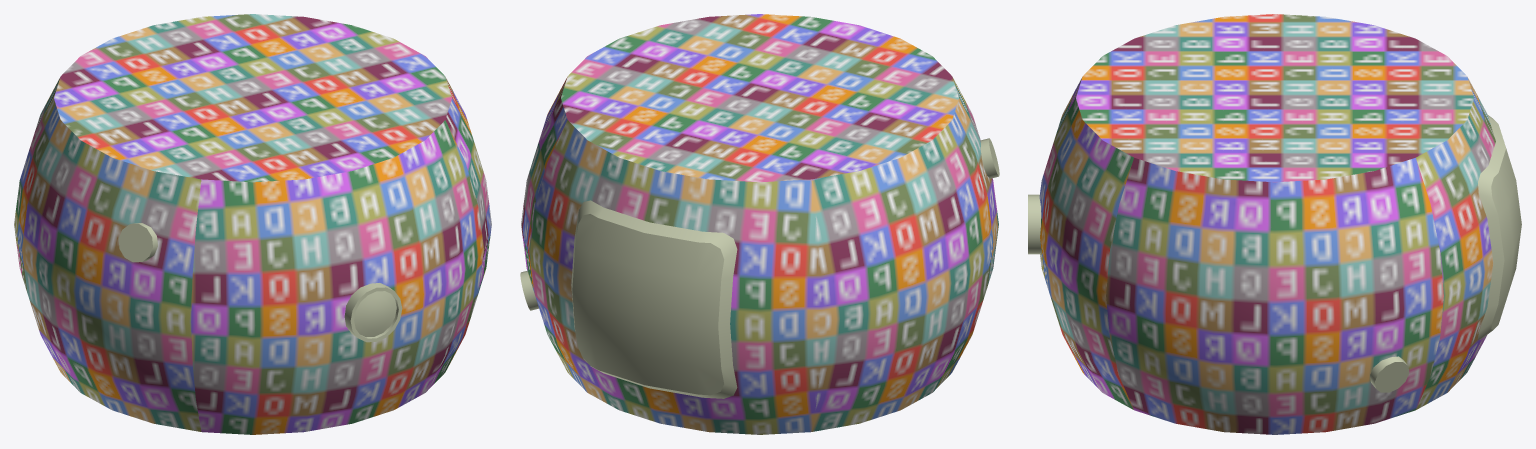
Rendered from hadar_crew_s1_1_interior.obj.
3 views of the same model, side by side, from view 1: azimuth 30°, elevation 25°; view 2: azimuth 150°, elevation 25°; view 3: azimuth 270°, elevation 25° (orthographic).
Parts seen in each view (by area): view 1: interior, mask; view 2: interior, mask; view 3: interior, mask.
Boxes of the visible parts, x1,y1,x2,y2 form: interior: (14,14,491,434); mask: (118,223,402,342); interior: (521,14,998,434); mask: (520,138,999,398); interior: (1039,14,1495,434); mask: (1028,115,1521,392).
Size of the model in its own units: 1.5 by 0.875 by 1.55.
Materials: 2 (1 with a texture image).
